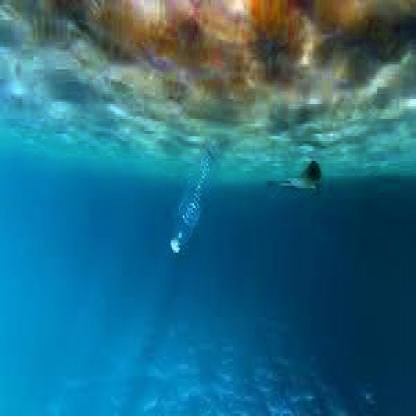pbottle: (169, 134, 225, 260)
